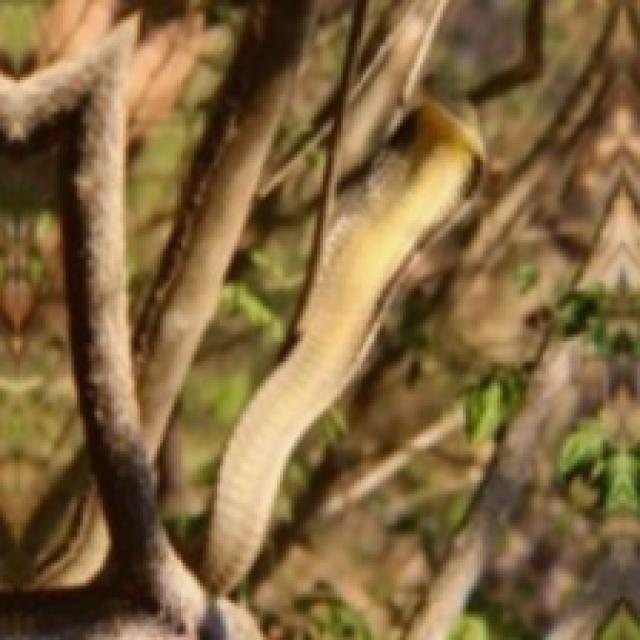king cobra: (206, 100, 480, 589), (206, 103, 480, 591), (63, 106, 203, 634)
